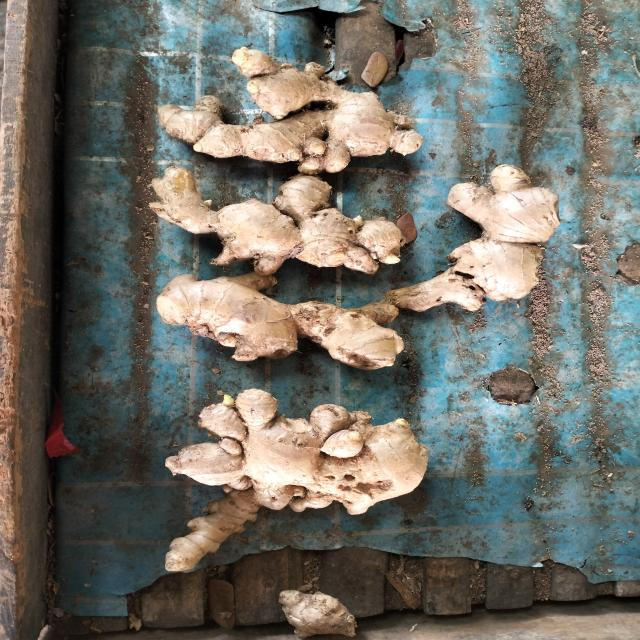ginger: (165, 380, 436, 570), (144, 26, 438, 158), (398, 151, 567, 345), (152, 165, 404, 275), (156, 277, 405, 373)
